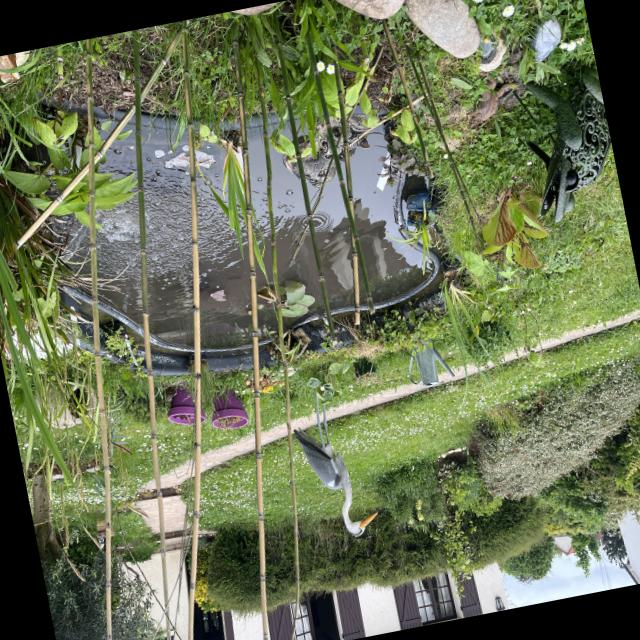Heron: (280, 376, 390, 559)
